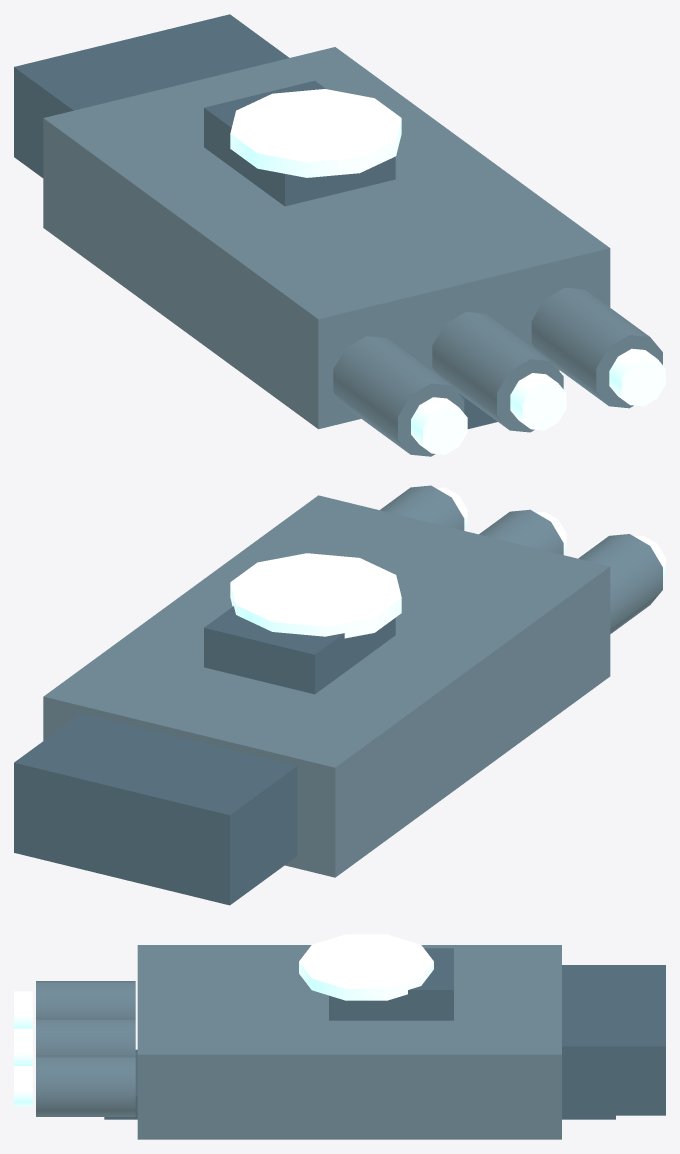
The model's file is electronic_ship.glb.
The picture shows the model from 3 angles, top to bottom: view 1: azimuth 30°, elevation 25°; view 2: azimuth 150°, elevation 25°; view 3: azimuth 270°, elevation 25°; orthographic projection. The views are drawn at different scales.
Parts seen in each view (by area): view 1: MainHull, ForeHull, SensorDish, Engine0, Engine1, Engine2, Bridge, EngineGlow0, EngineGlow2, EngineGlow1; view 2: MainHull, ForeHull, SensorDish, Bridge, Engine0, Engine2, Engine1; view 3: MainHull, ForeHull, SensorDish, Engine2, Bridge, Engine0, Engine1, EngineGlow2, EngineGlow0, EngineGlow1, Keel.
Boxes of the visible parts, bbox=[...] form: MainHull: bbox=[43, 47, 610, 429]; ForeHull: bbox=[14, 14, 289, 177]; SensorDish: bbox=[230, 89, 401, 177]; Engine0: bbox=[333, 336, 464, 456]; Engine1: bbox=[432, 312, 563, 432]; Engine2: bbox=[531, 287, 662, 408]; Bridge: bbox=[204, 80, 395, 206]; EngineGlow0: bbox=[411, 397, 467, 454]; EngineGlow2: bbox=[609, 348, 665, 406]; EngineGlow1: bbox=[510, 373, 566, 430]; MainHull: bbox=[43, 495, 610, 877]; ForeHull: bbox=[14, 713, 297, 905]; SensorDish: bbox=[230, 553, 401, 638]; Bridge: bbox=[204, 606, 395, 694]; Engine0: bbox=[578, 534, 662, 633]; Engine2: bbox=[380, 485, 464, 530]; Engine1: bbox=[479, 509, 563, 554]; MainHull: bbox=[137, 945, 561, 1139]; ForeHull: bbox=[562, 965, 665, 1115]; SensorDish: bbox=[299, 934, 433, 1000]; Engine2: bbox=[36, 1055, 135, 1116]; Bridge: bbox=[329, 948, 453, 1020]; Engine0: bbox=[36, 981, 135, 1018]; Engine1: bbox=[36, 1018, 135, 1055]; EngineGlow2: bbox=[14, 1066, 32, 1106]; EngineGlow0: bbox=[14, 991, 32, 1028]; EngineGlow1: bbox=[14, 1028, 32, 1065]; Keel: bbox=[104, 1049, 615, 1119].
Size of the model in its own units: 2.5 by 1.43 by 6.27.
